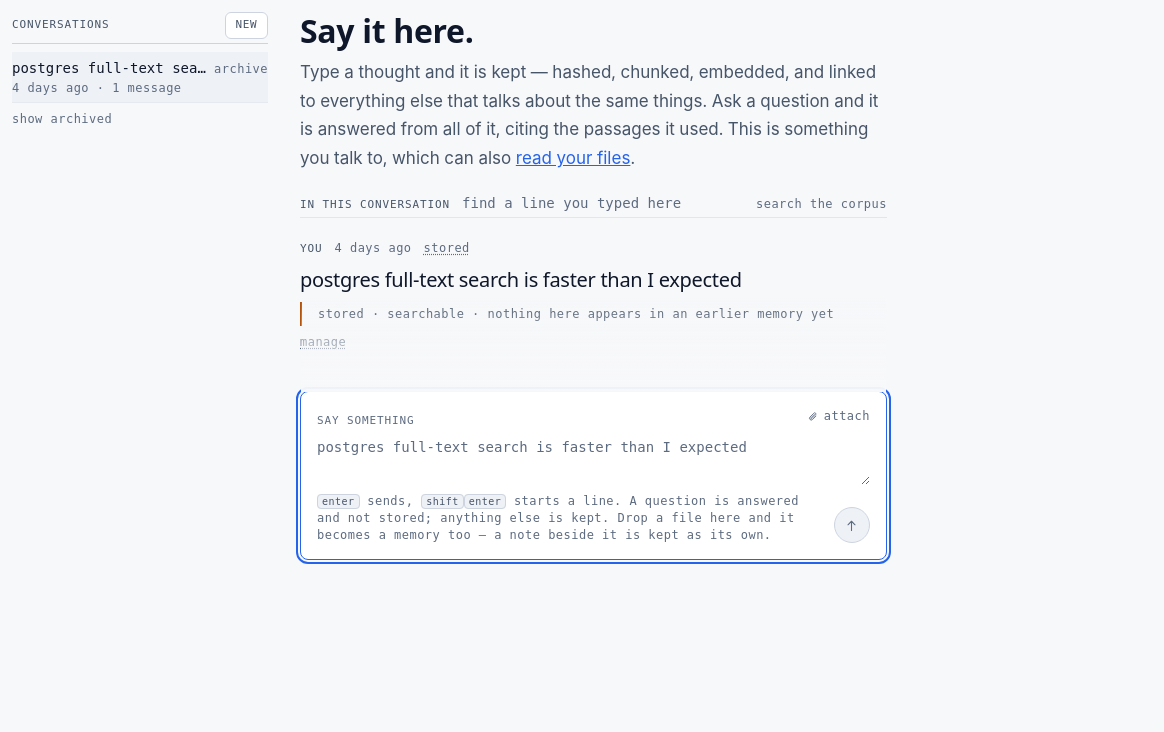
Test: managing a memory from the chat › corrects a message, and says the original is kept
Click the button "manage": {"x": 323, "y": 343} [300,334,346,351]
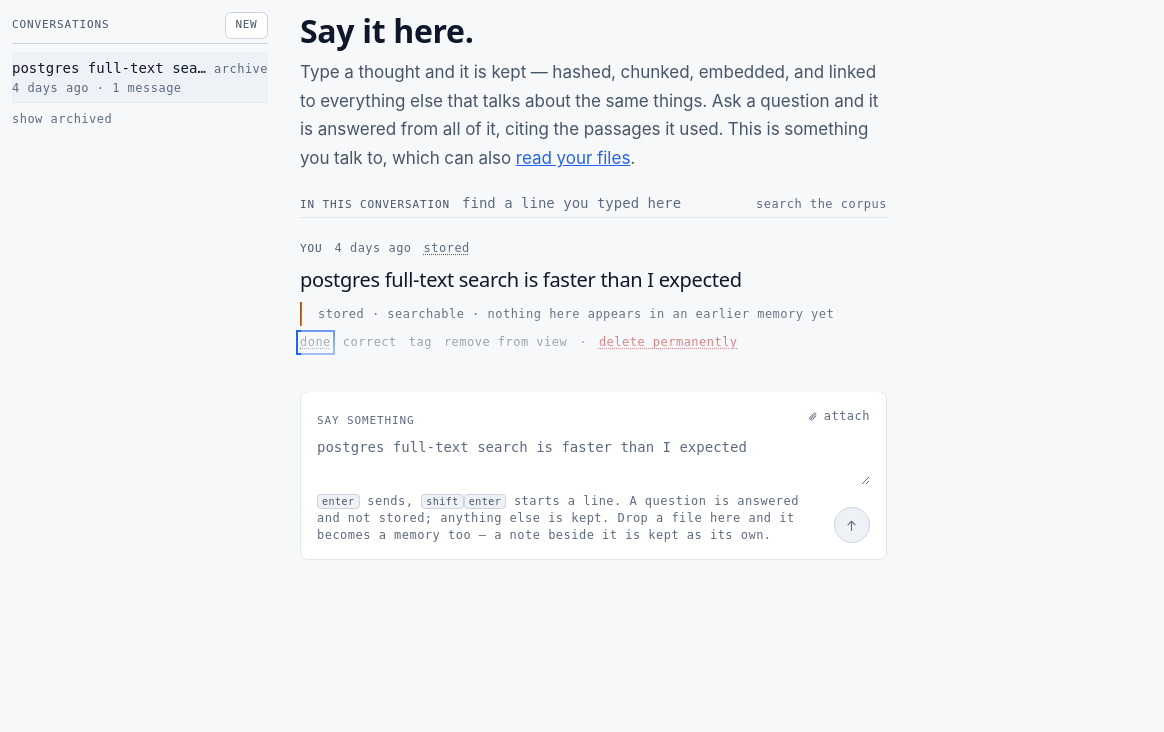
Click the button "correct": {"x": 370, "y": 343} [343,334,397,351]
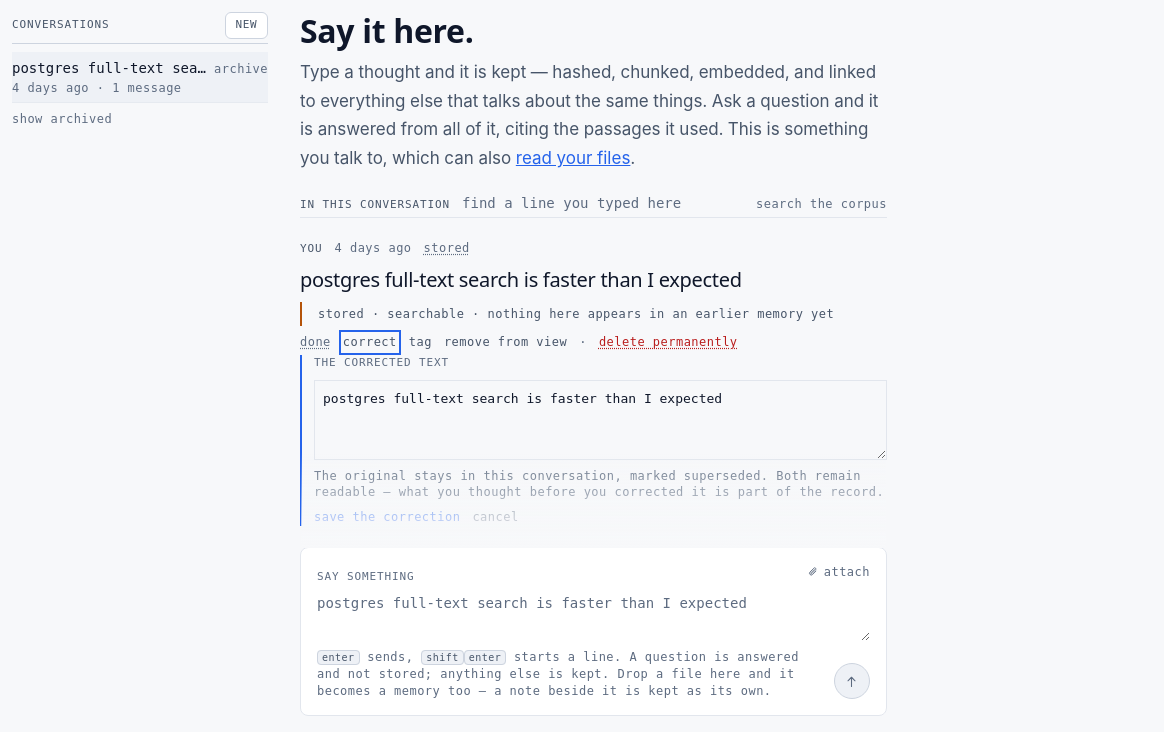
Check: the text box labelled "the corrected text" holds "postgres full-text search is faster than I expected"
Replace the text in the text box labelled "the corrected text" with "postgres full-text search was slower than I expected": {"x": 600, "y": 420} [314,380,887,460]
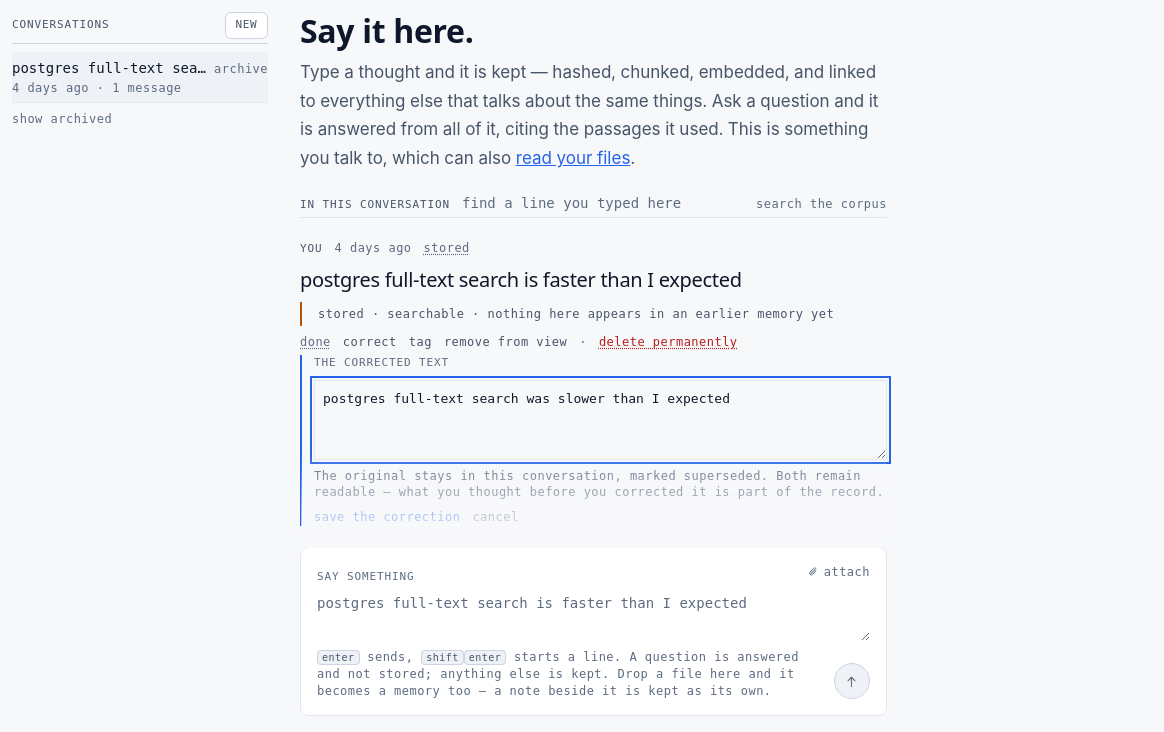
Check: the text "The original stays in this conversation, marked superseded" is shown, box [314,469,884,500]
Click the button "save the correction": {"x": 387, "y": 518} [314,509,460,526]
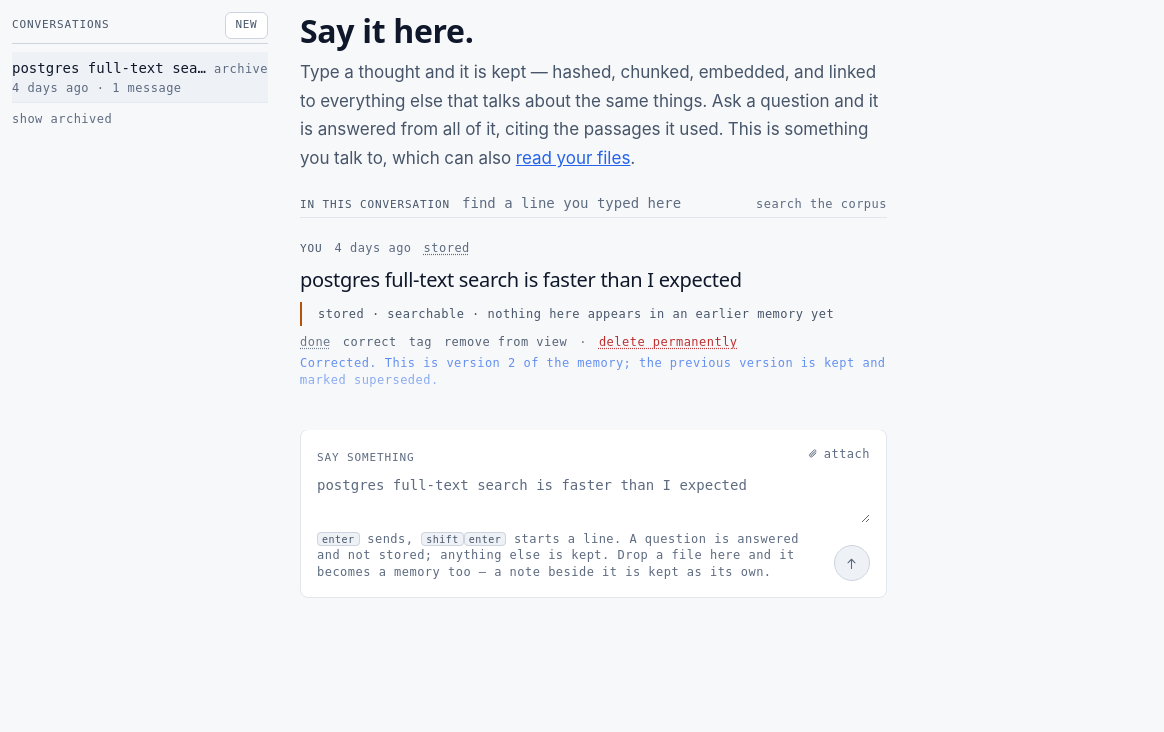
Check: the text "version 2 of the memory; the previous version is kept" is shown, box [300,356,886,387]
